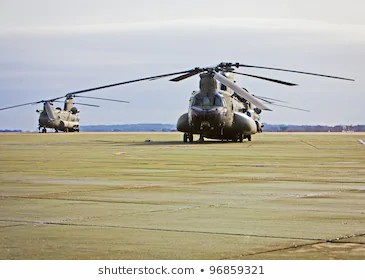chinook: (159, 54, 278, 148), (22, 88, 93, 136)
